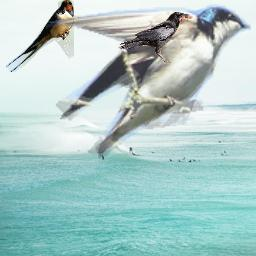Crow: (118, 10, 197, 63)
Swallow: (46, 3, 251, 160), (6, 0, 74, 72)
